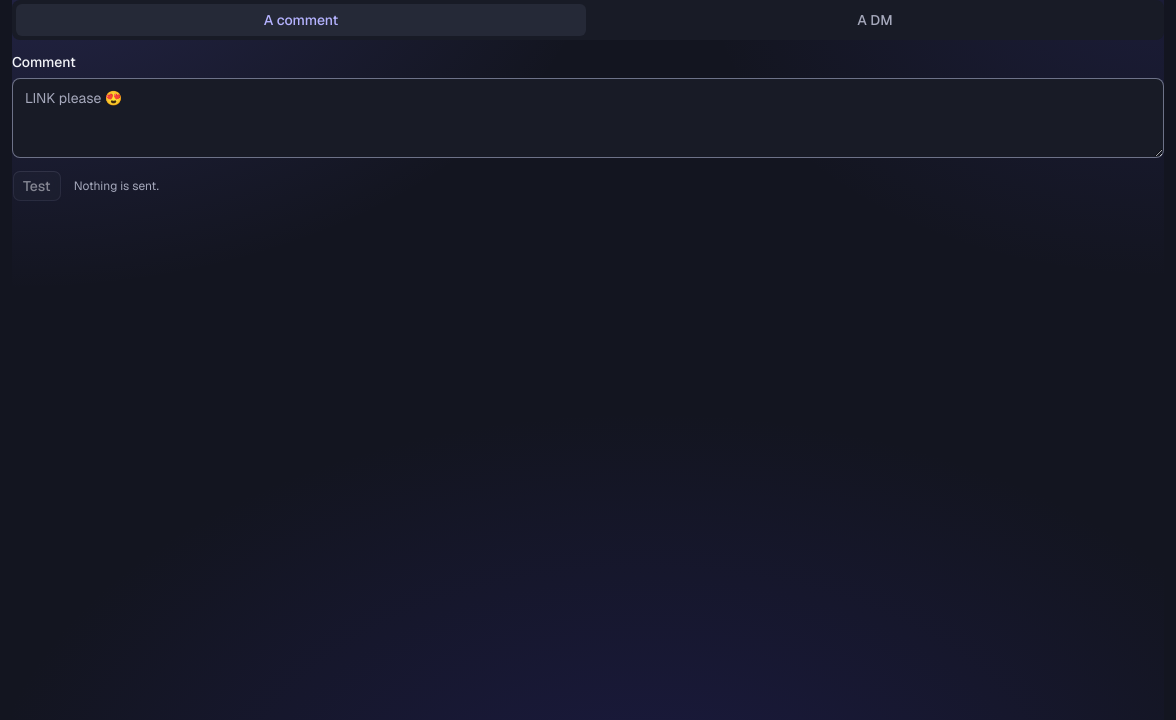
Test: MatchTester (UX-SCR-03 Test) › does not test unsaved changes
The width and height of the screenshot is (1176, 720).
Type "LINK" into the text box labelled "Comment".
click(588, 118); type("LINK")  # box [12,78,1164,158]
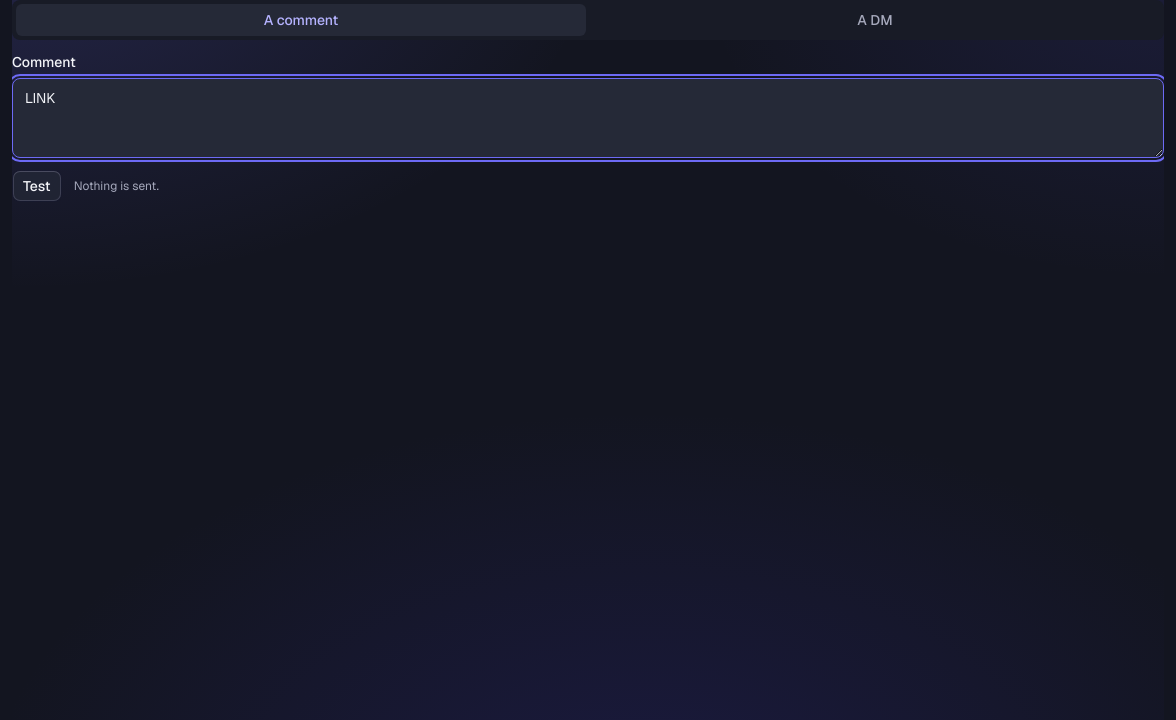
Click the button "Test".
click(37, 186)  # box [12,170,62,202]
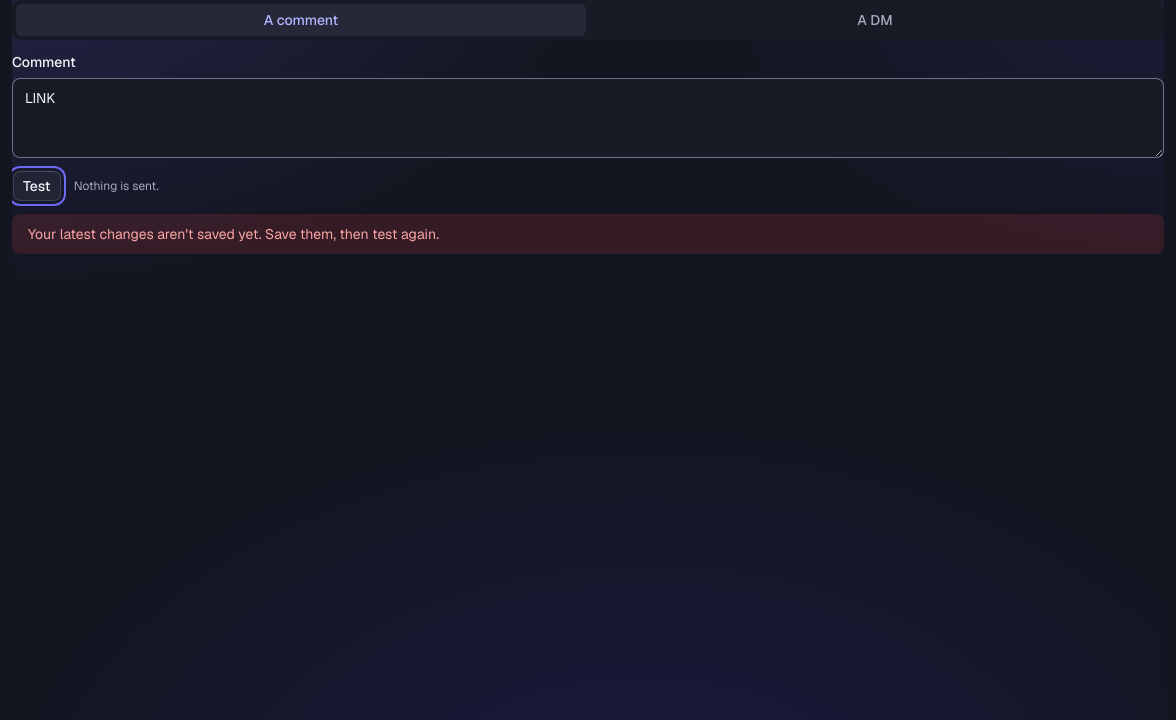
Expected: the text "aren't saved yet" is shown, [28,225,439,243]
